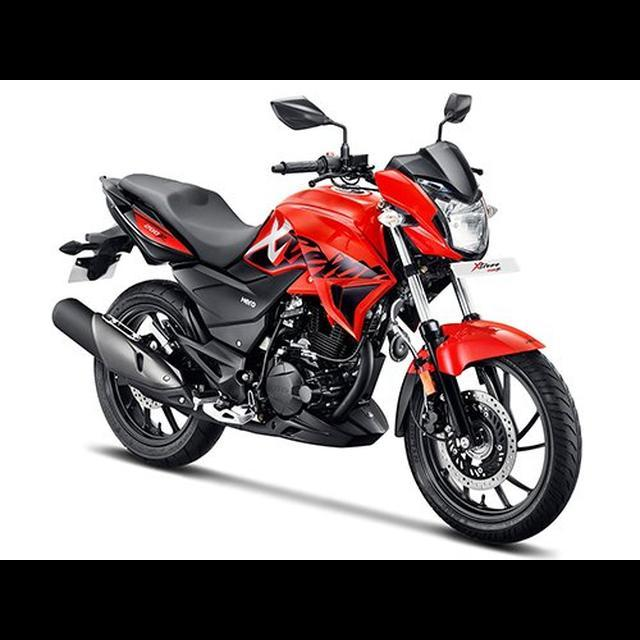motorcycle: (47, 85, 587, 551)
